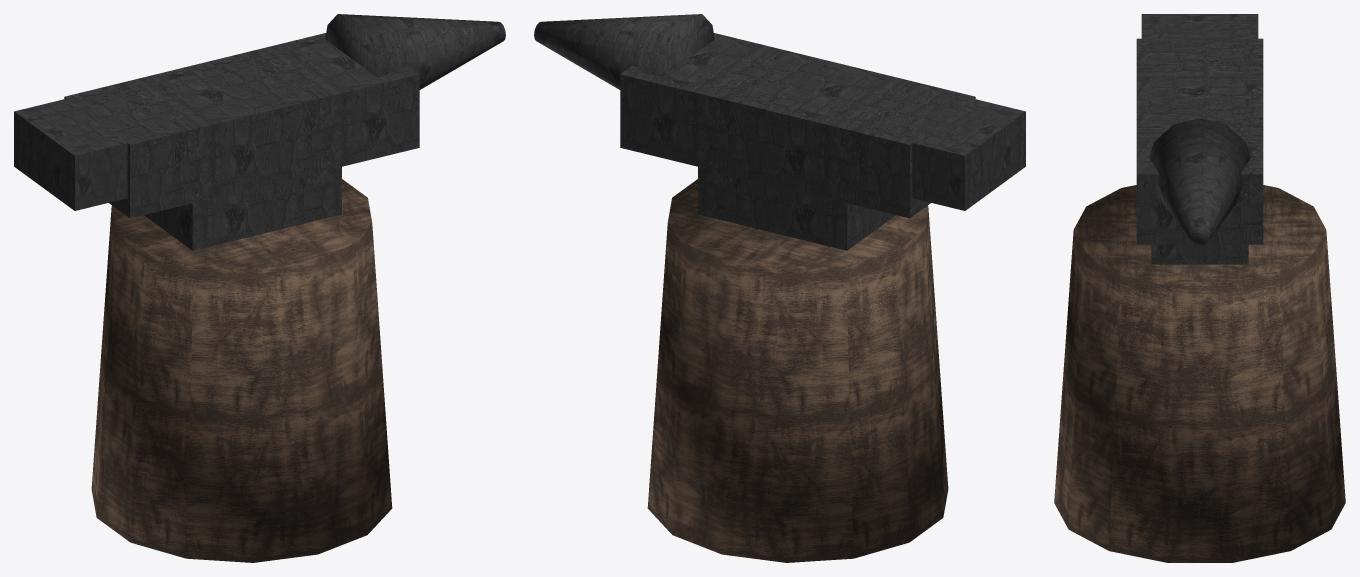
Rendered from prop_anvil_v2.glb.
The picture shows the model from 3 angles, left to right: view 1: azimuth 30°, elevation 25°; view 2: azimuth 150°, elevation 25°; view 3: azimuth 270°, elevation 25°; orthographic projection. The views are drawn at different scales.
Parts seen in each view (by area): view 1: prop_anvil_v2; view 2: prop_anvil_v2; view 3: prop_anvil_v2.
Part boxes in pixels (x1,y1,x2,y2): prop_anvil_v2: [14, 14, 505, 562]; prop_anvil_v2: [534, 14, 1025, 562]; prop_anvil_v2: [1054, 14, 1345, 562].
Bounding box in the file's own units: 1.04 × 0.99 × 0.6.
2 materials, 2 textured.
